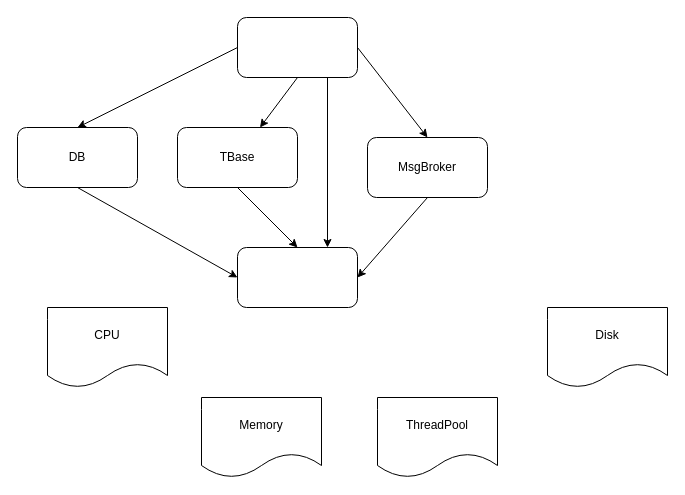
Some shapes in this 685 by 495 pixel diagram are drawn without their labels. The box of each missing label's shape, as (x1, y1, x2, y2) in pixels:
Server: (236, 246, 358, 308)
应用: (236, 16, 358, 78)
